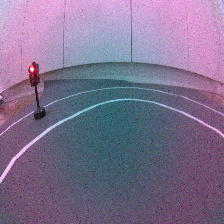red: (27, 61, 49, 122)
